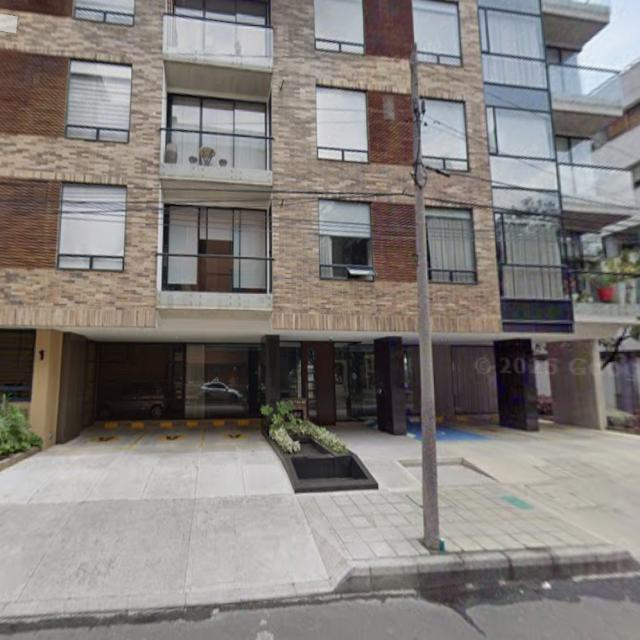fachada: (0, 0, 635, 443)
poste: (411, 43, 439, 550)
